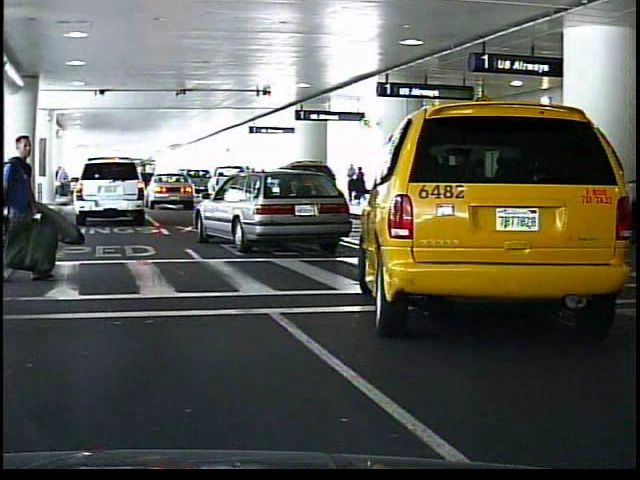person: (7, 131, 55, 288), (344, 164, 355, 201), (355, 165, 365, 202)
